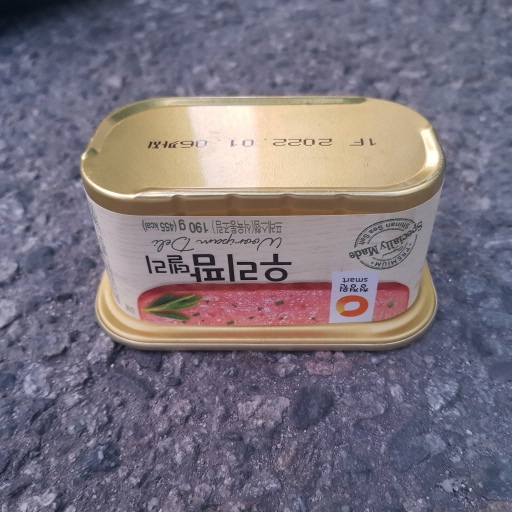Metal_2: (77, 92, 445, 355)
